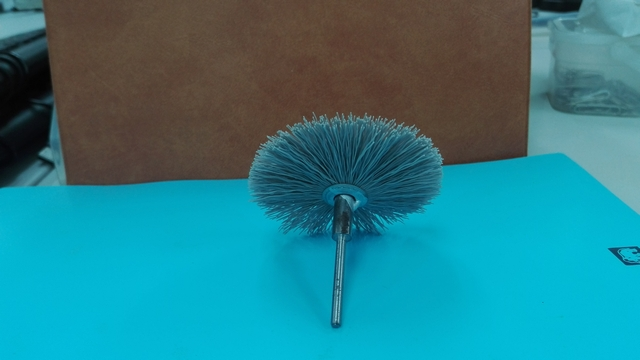TOOL: (224, 101, 476, 272), (223, 74, 435, 268)
